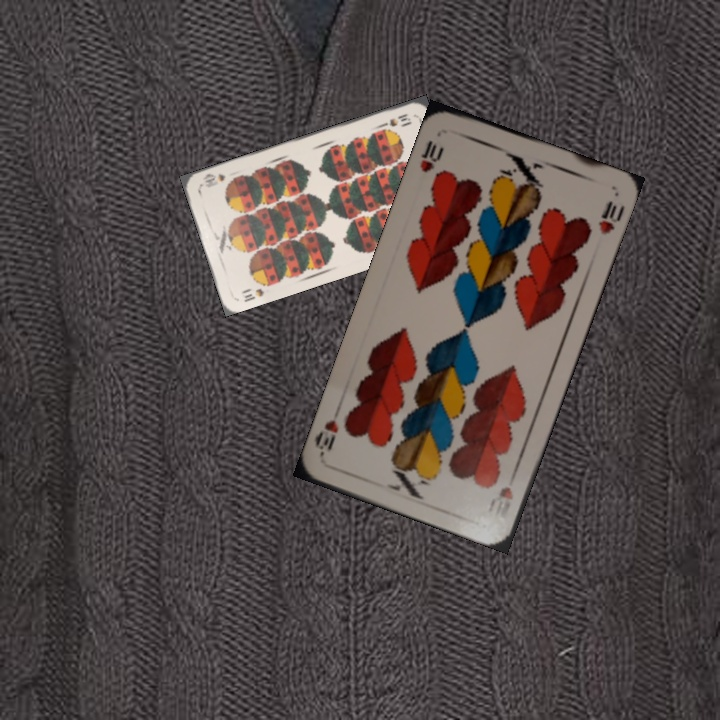H10: (489, 465, 520, 525), (415, 136, 446, 176)
S10: (376, 110, 414, 130), (240, 284, 267, 305)
